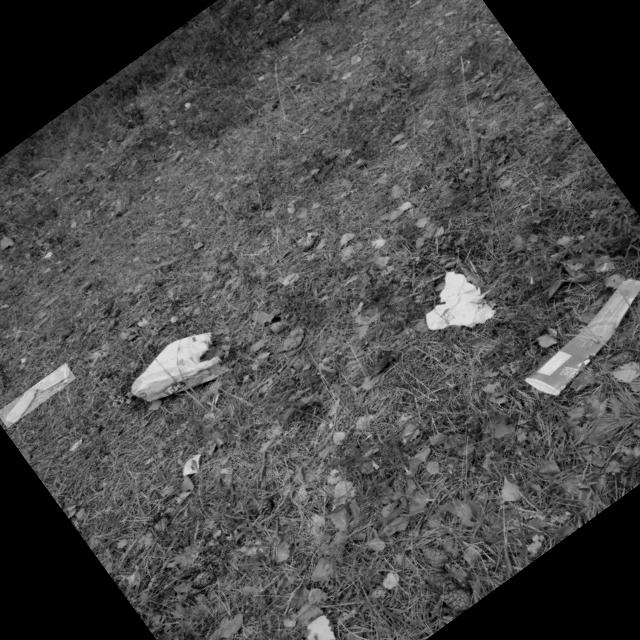Food Carton: (525, 278, 640, 395), (4, 364, 69, 424)
Other plastic: (125, 333, 228, 403)
Paper bag: (426, 271, 496, 329)
